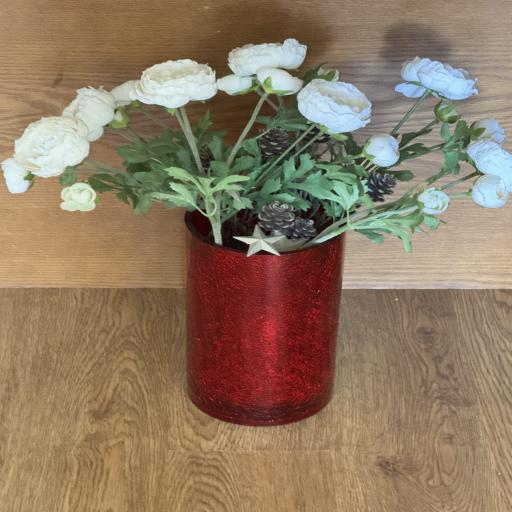Plant Pot: (182, 186, 346, 427)
